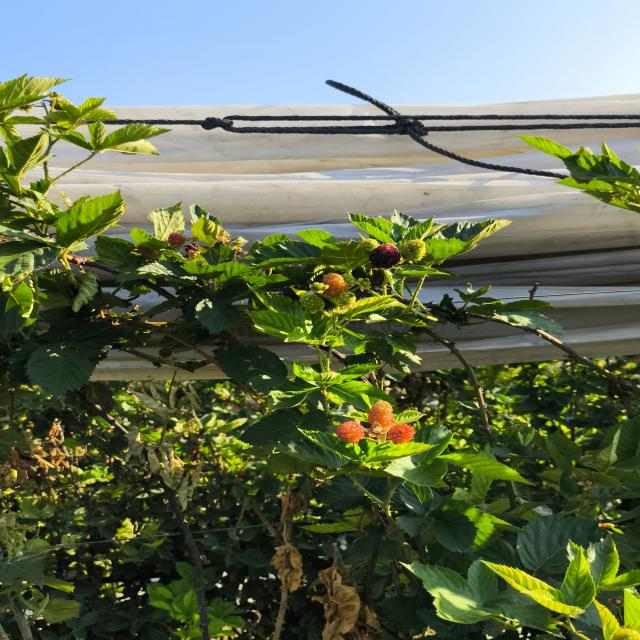marron: (369, 243, 401, 268)
naranja: (368, 400, 394, 427), (336, 421, 364, 443), (323, 273, 348, 297), (387, 423, 415, 444), (167, 231, 187, 247)
verde: (401, 240, 426, 261), (300, 293, 324, 313), (611, 628, 640, 640), (360, 238, 380, 253), (335, 292, 356, 306)
